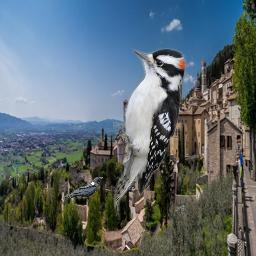Crow: (64, 177, 103, 198)
Woodpecker: (113, 41, 193, 212)
